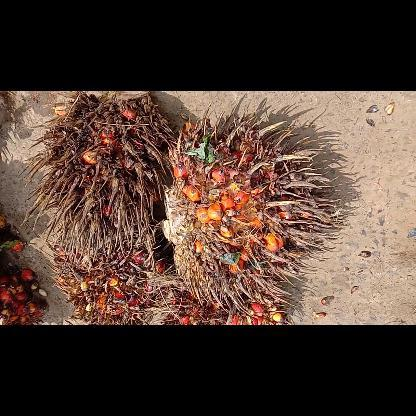Terlalu masak: (158, 101, 356, 314), (15, 91, 180, 257), (40, 224, 178, 324)
